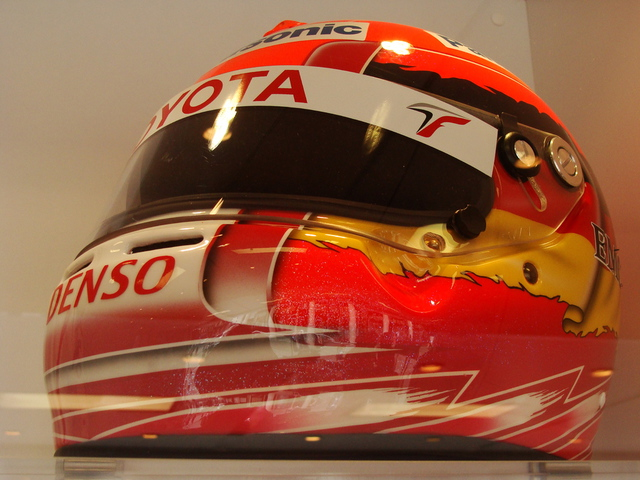helmet: (75, 13, 610, 460)
